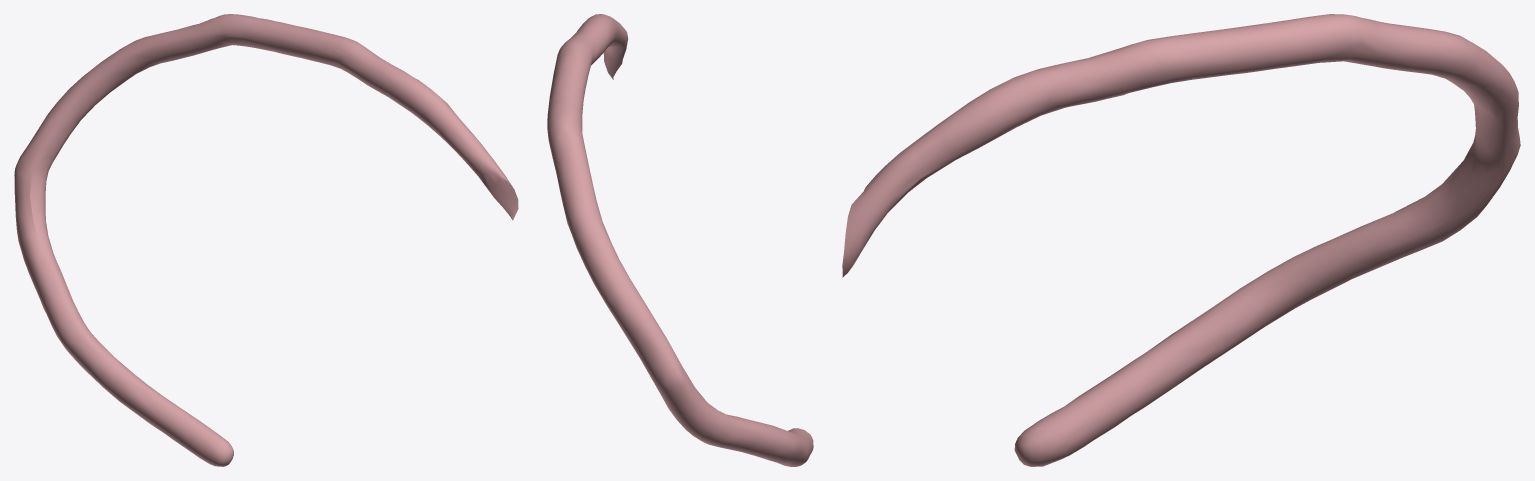
Rendered from fma83715-r_mm3065m.glb.
The picture shows the model from 3 angles, left to right: view 1: azimuth 30°, elevation 25°; view 2: azimuth 150°, elevation 25°; view 3: azimuth 270°, elevation 25°; orthographic projection. The views are drawn at different scales.
Visible parts, largest first — view 1: FMA83715-R_MM3065M; view 2: FMA83715-R_MM3065M; view 3: FMA83715-R_MM3065M.
Boxes of the visible parts, box(x1,y1,x2,y2) form: FMA83715-R_MM3065M: box(14, 14, 518, 466); FMA83715-R_MM3065M: box(547, 14, 813, 466); FMA83715-R_MM3065M: box(842, 14, 1520, 466).
Bounding box in the file's own units: 0.0294 × 0.0323 × 0.0365.
